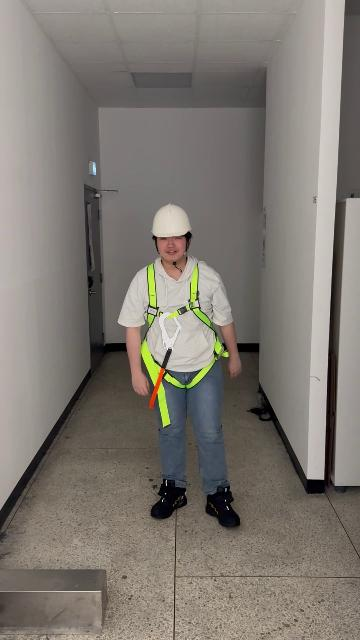helmet_worn: (149, 202, 193, 238)
shoe_worn: (150, 479, 187, 519), (206, 486, 240, 526)
vest_worn: (137, 262, 229, 422)
